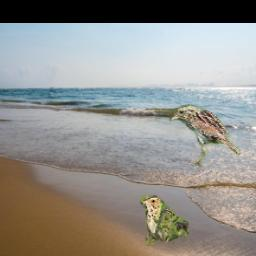Sparrow: (169, 104, 241, 167), (141, 196, 190, 247)
